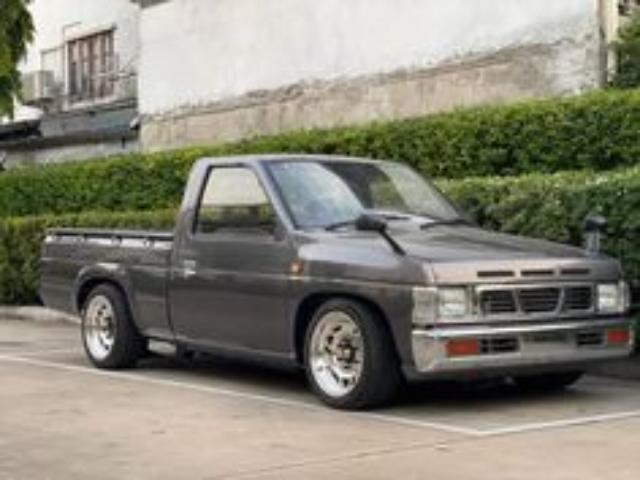pickup-truck: (35, 153, 637, 411)
